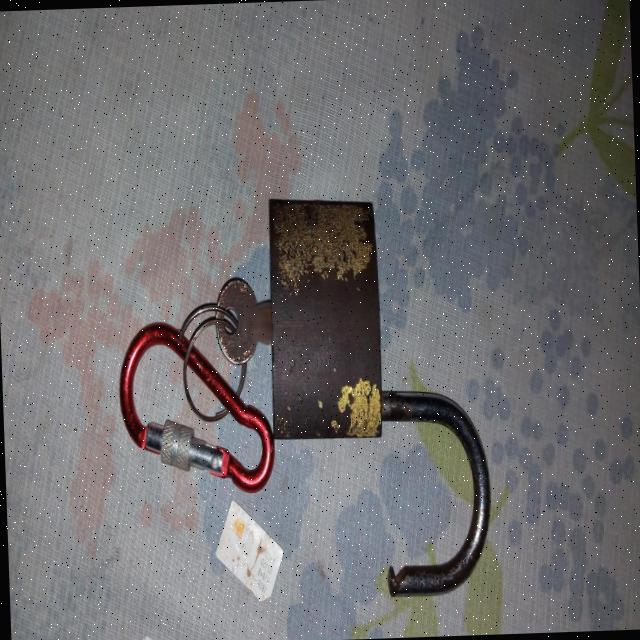Frontdoor keys: (210, 265, 282, 393)
